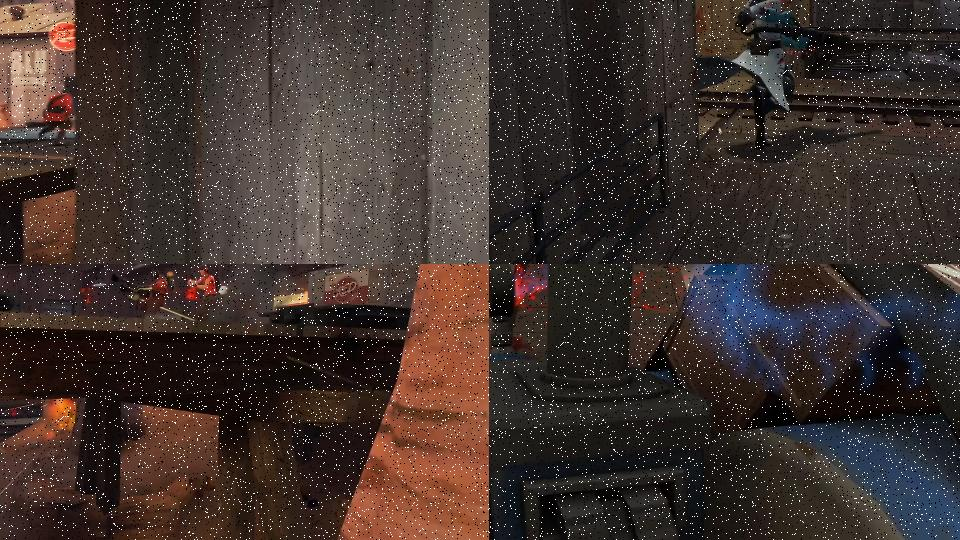Enemy: (699, 0, 856, 151), (112, 269, 176, 320), (39, 89, 74, 146), (187, 265, 221, 322)
